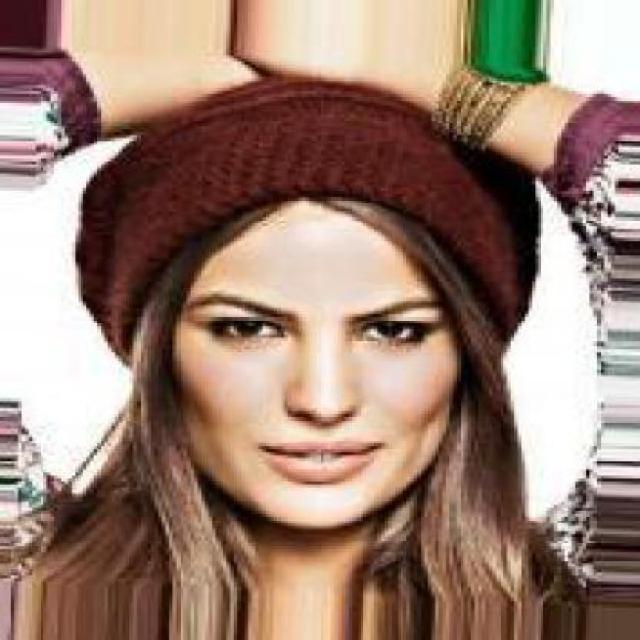closed-mouth: (269, 438, 377, 482)
